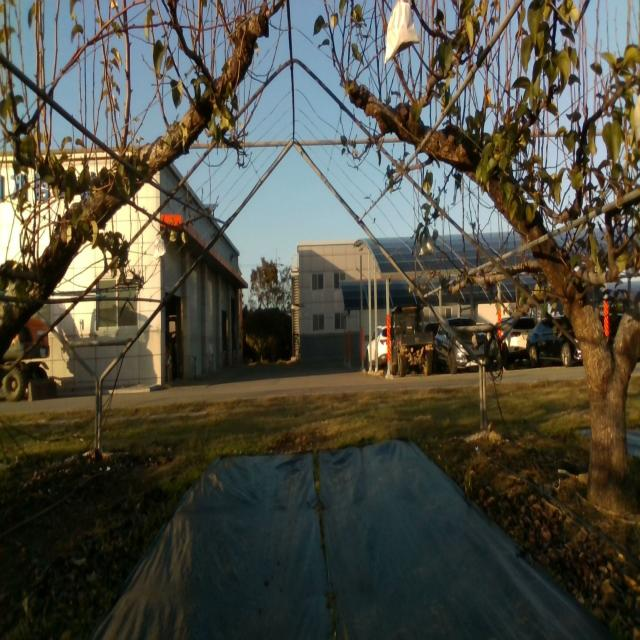pearbags: (384, 0, 421, 66), (418, 234, 436, 258), (153, 237, 166, 259)
